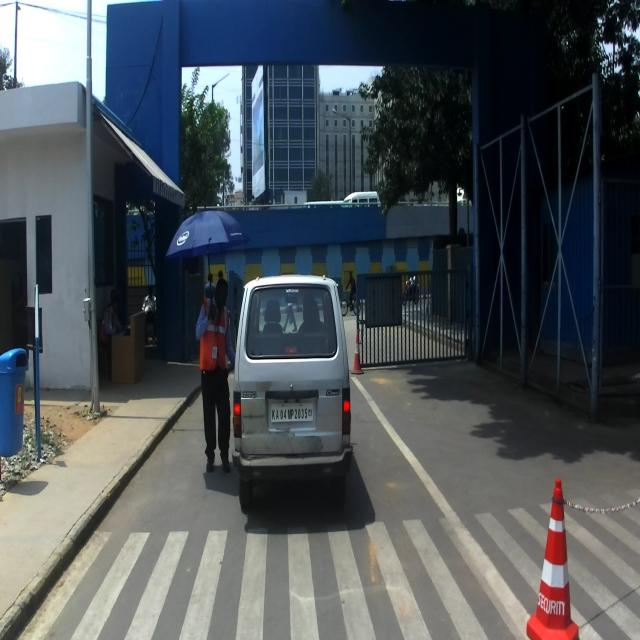car: (231, 273, 353, 511)
